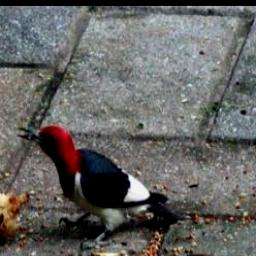Woodpecker: (10, 117, 189, 256)
